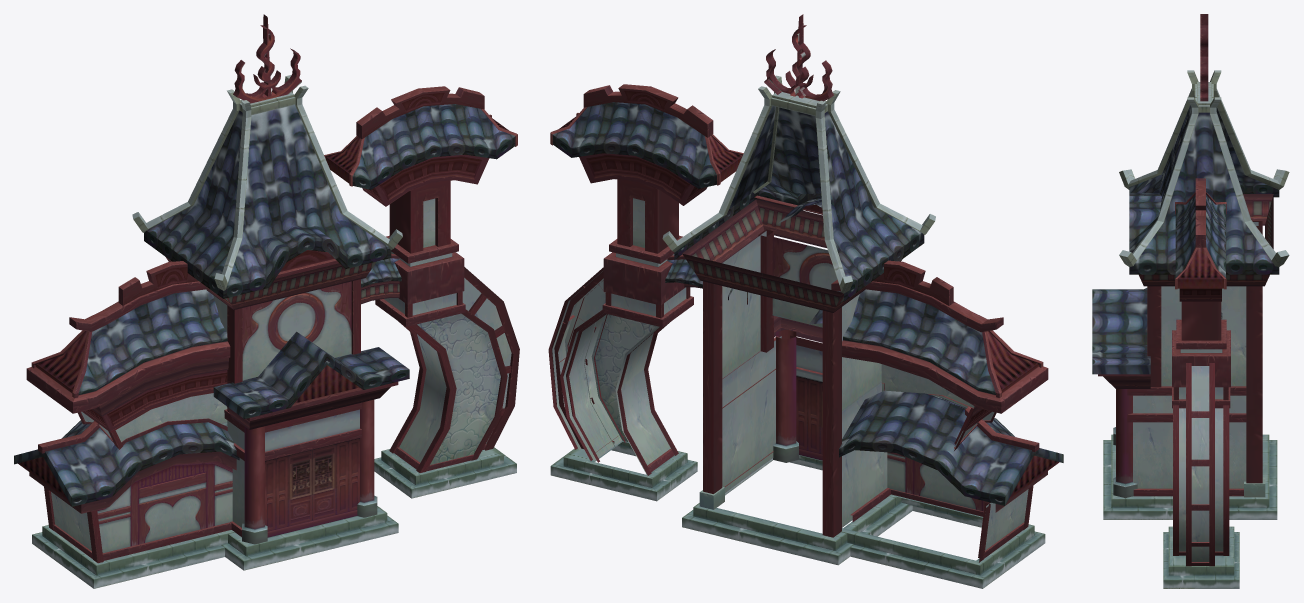
The picture shows the model from 3 angles, left to right: view 1: azimuth 30°, elevation 25°; view 2: azimuth 150°, elevation 25°; view 3: azimuth 270°, elevation 25°; orthographic projection. The views are drawn at different scales.
Parts seen in each view (by area): view 1: MB0002_07_01; view 2: MB0002_07_01; view 3: MB0002_07_01.
Part boxes in pixels (bbox=[...]): MB0002_07_01: bbox=[14, 14, 519, 588]; MB0002_07_01: bbox=[548, 14, 1063, 588]; MB0002_07_01: bbox=[1092, 14, 1289, 588].
Size of the model in its own units: 17.84 by 17.89 by 6.81.
